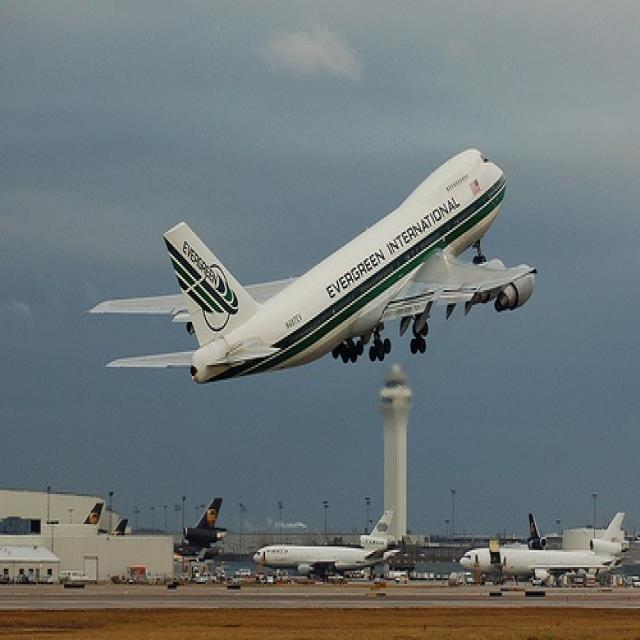aeroplane: (87, 142, 545, 391), (457, 508, 636, 592), (251, 508, 404, 587)
